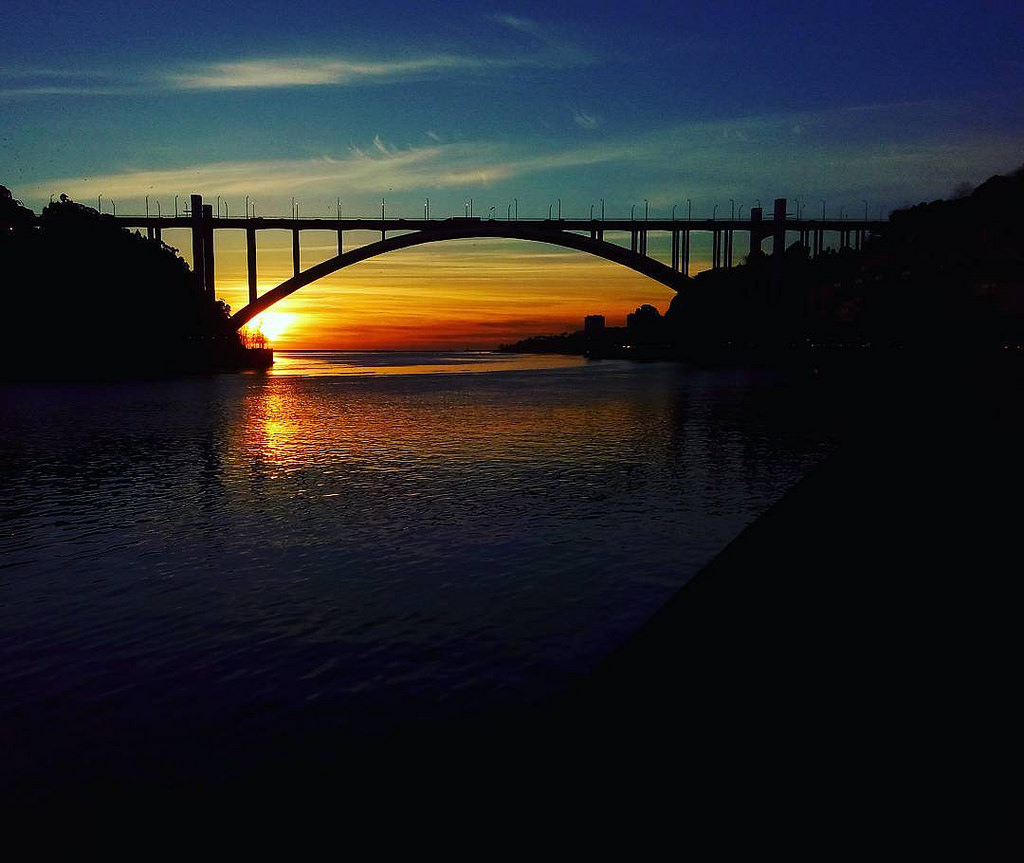arrabida: (106, 190, 887, 349)
